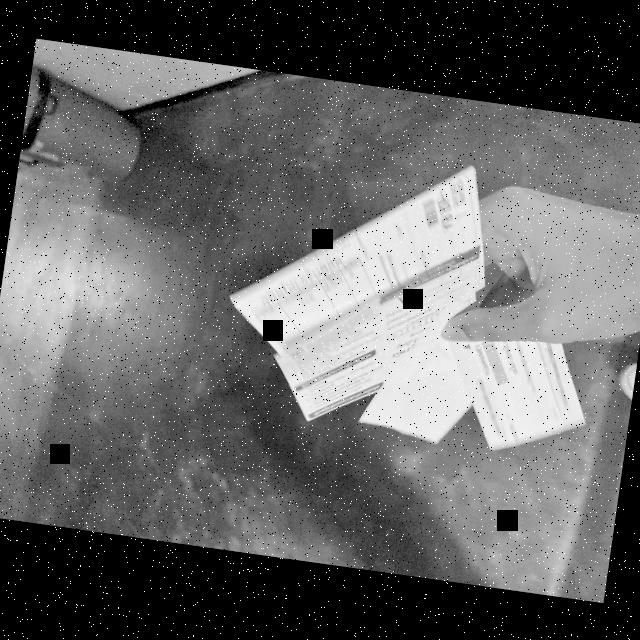scrap_paper: (216, 141, 494, 380), (263, 238, 497, 446), (429, 306, 591, 464), (356, 289, 502, 452)
